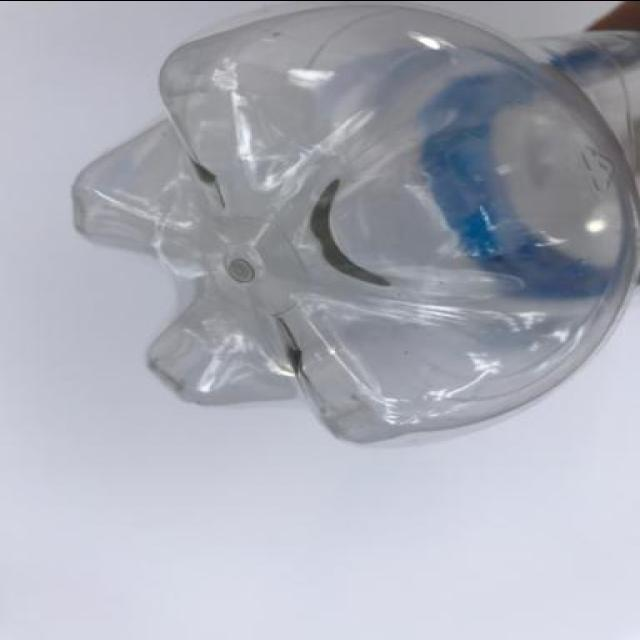litter: (69, 1, 638, 449)
